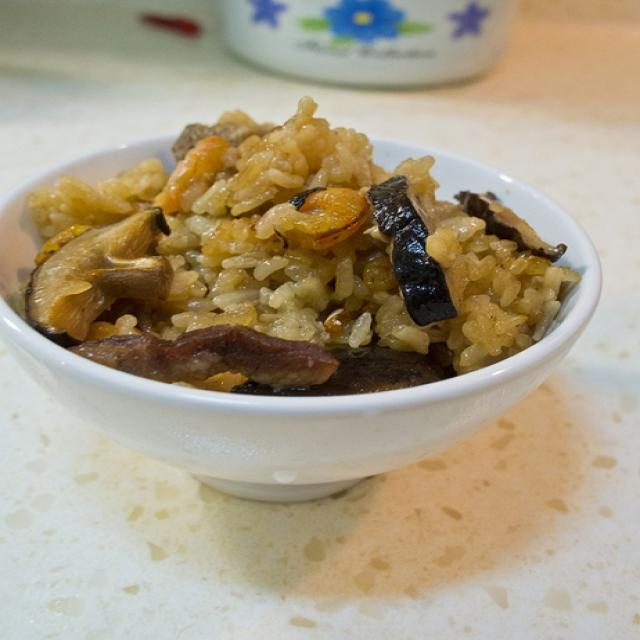米饭主食: (6, 81, 601, 458)
